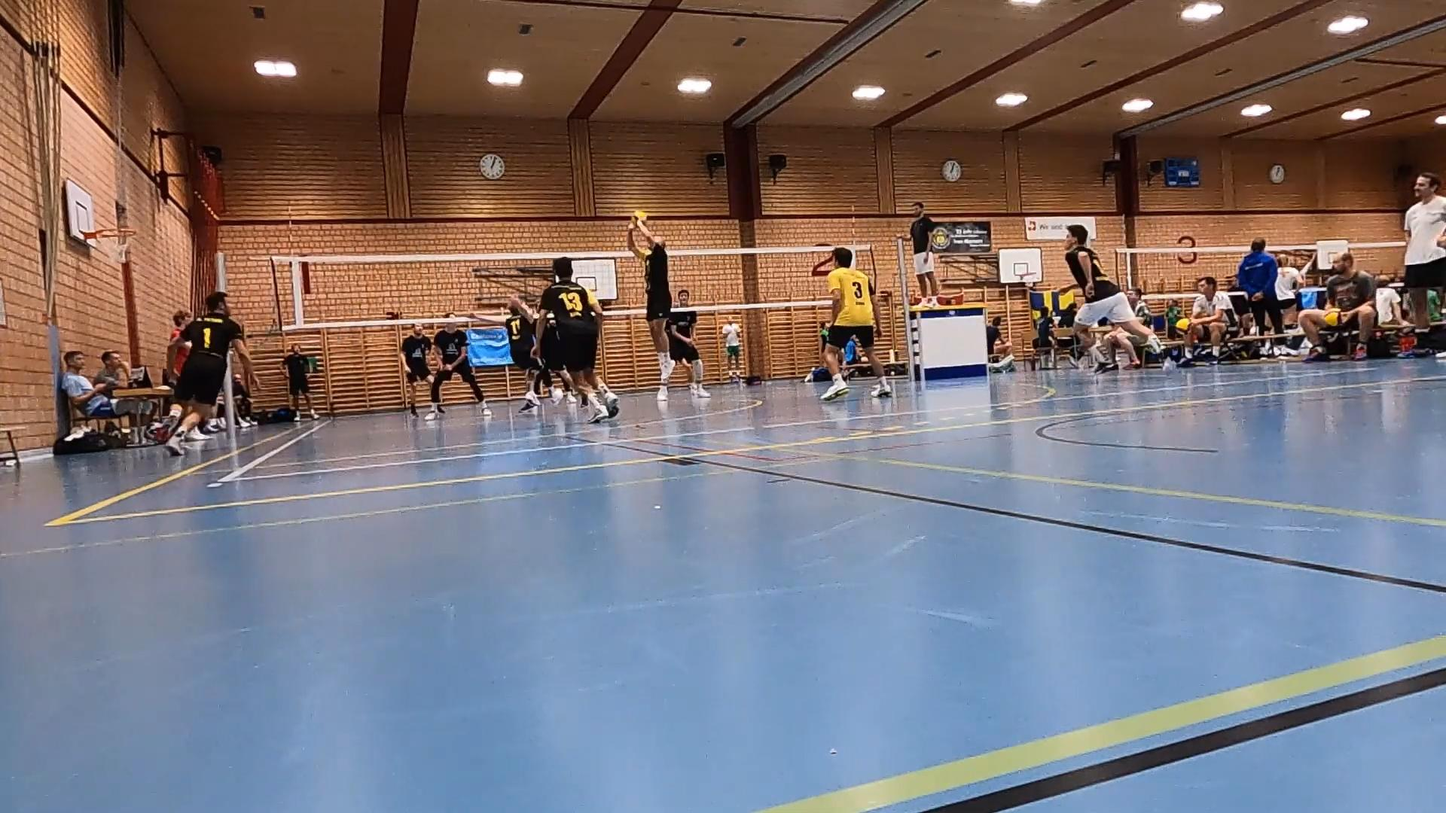alzata: (623, 217, 677, 388)
